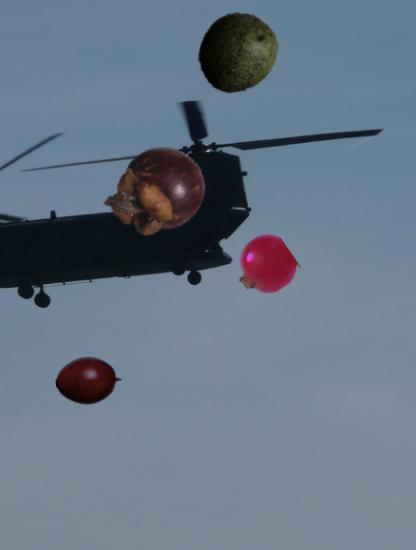Avocado: (197, 11, 280, 94)
Mangostan: (104, 141, 208, 245)
Redcurrant: (235, 237, 294, 296)
Tamarillo: (56, 347, 124, 415)
